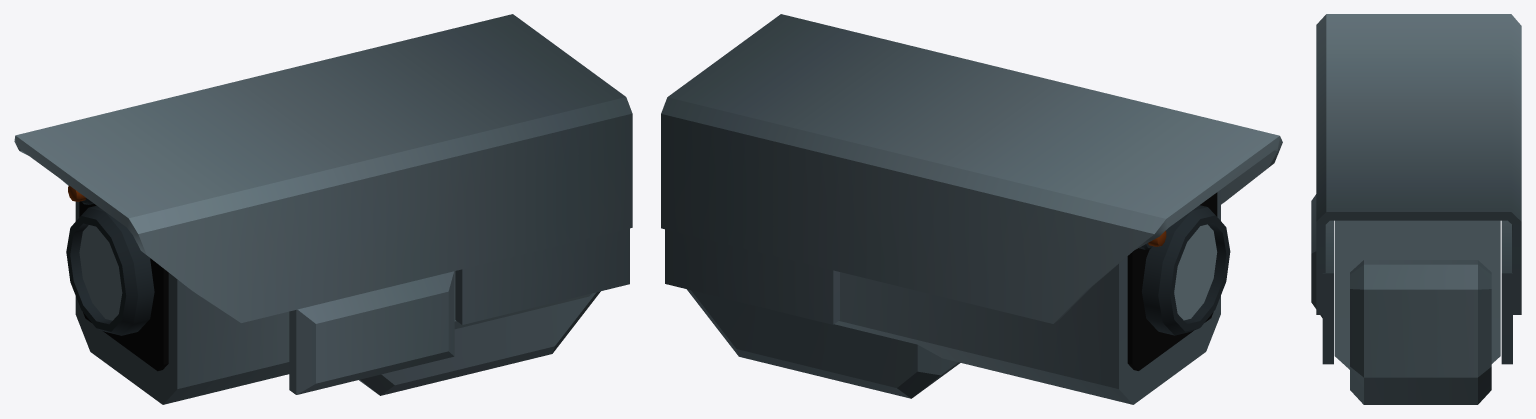
File: FM_Camera.fbx
3 renders of one model, left to right at view 1: azimuth 30°, elevation 25°; view 2: azimuth 150°, elevation 25°; view 3: azimuth 270°, elevation 25°, orthographic. The views are drawn at different scales.
Visible parts, largest first — view 1: FM_Camera; view 2: FM_Camera; view 3: FM_Camera.
Part boxes in pixels (x1=…): FM_Camera: x1=14, y1=14, x2=632, y2=404; FM_Camera: x1=661, y1=14, x2=1282, y2=404; FM_Camera: x1=1311, y1=14, x2=1521, y2=404.
Size of the model in its own units: 0.804 by 0.354 by 0.3961.
